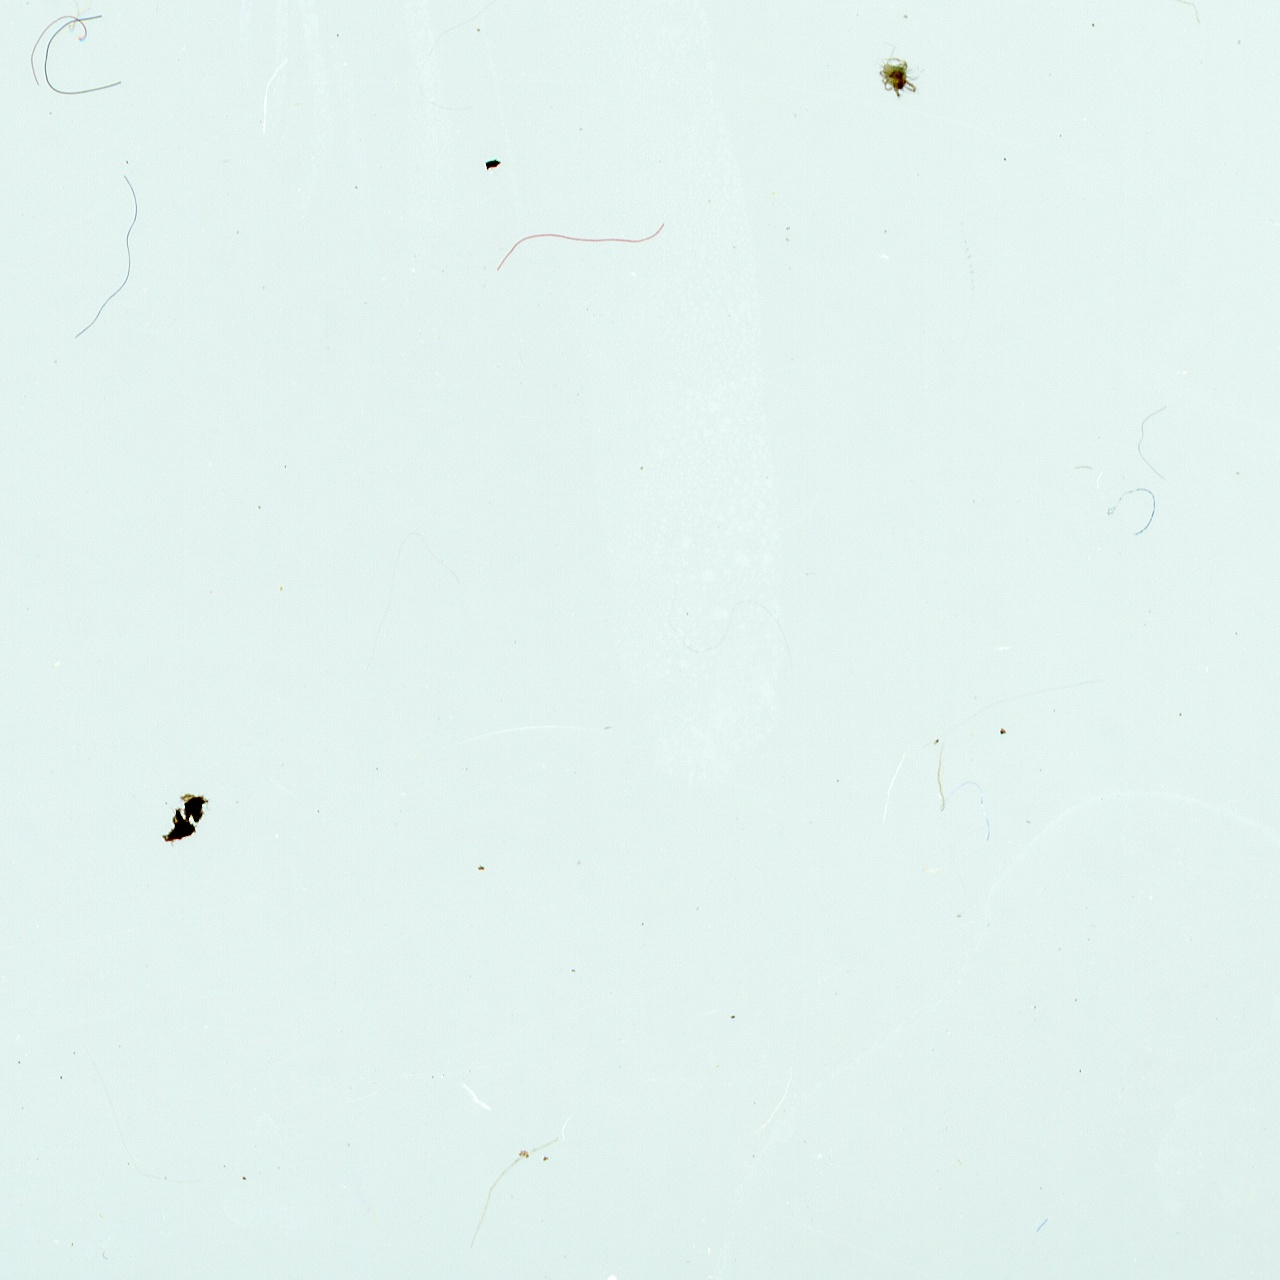arthropod: (875, 56, 919, 99)
